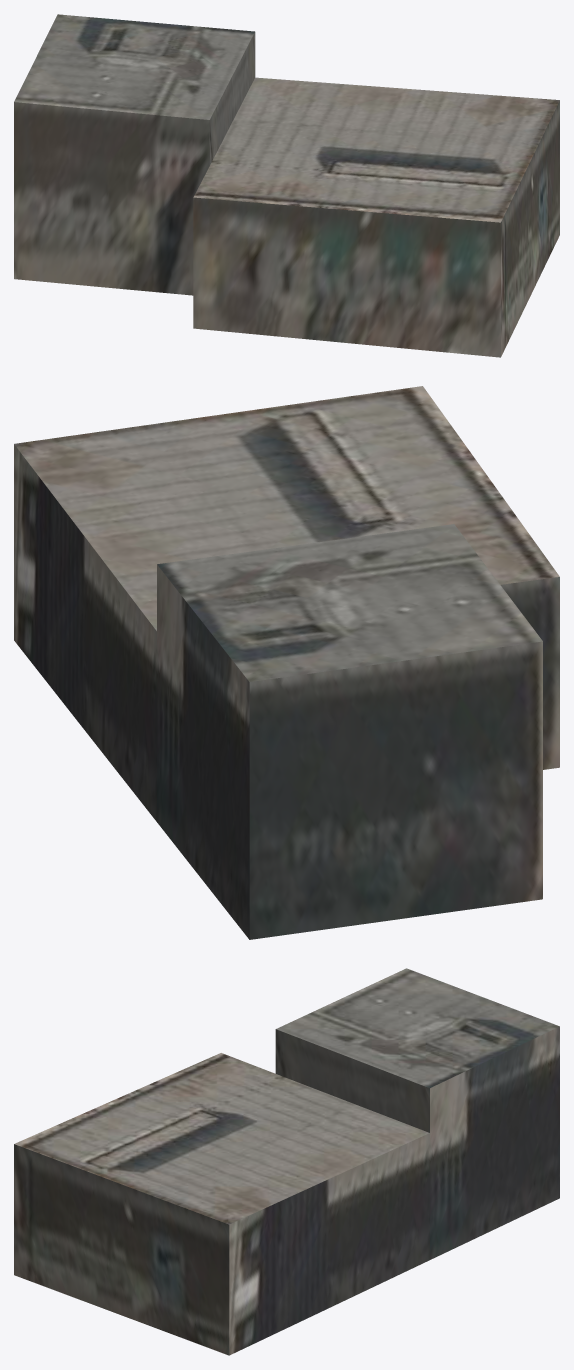
3 views of the same model, one above another, from view 1: azimuth 30°, elevation 25°; view 2: azimuth 150°, elevation 25°; view 3: azimuth 270°, elevation 25° (orthographic). The views are drawn at different scales.
Parts seen in each view (by area): view 1: Z_UP; view 2: Z_UP; view 3: Z_UP.
Part boxes in pixels (bbox=[...]): Z_UP: bbox=[14, 14, 559, 357]; Z_UP: bbox=[14, 386, 559, 939]; Z_UP: bbox=[14, 968, 559, 1355].
Bounding box in the file's own units: 22.1 × 8.22 × 23.67.
Materials: 6 (5 with a texture image).
